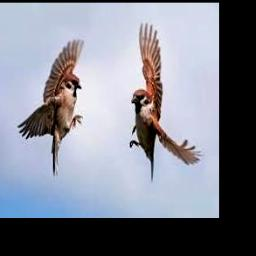Sparrow: (128, 23, 203, 181), (17, 39, 84, 178)
